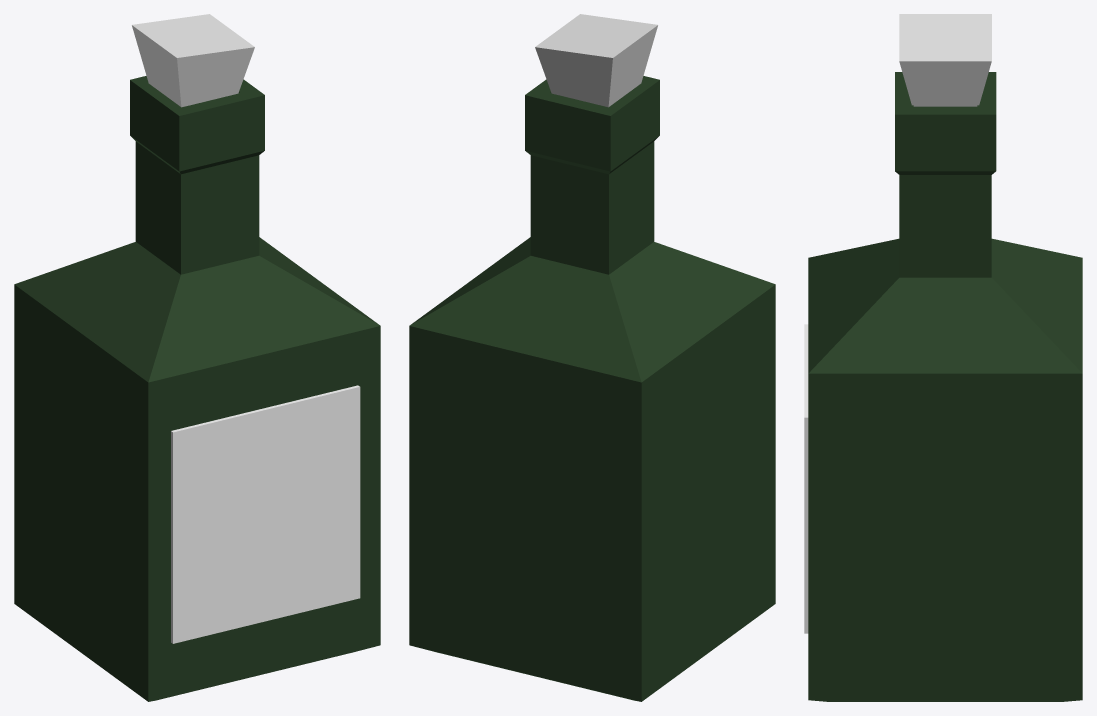
The model's file is red_potion_glass.fbx.
3 views of the same model, side by side, from view 1: azimuth 30°, elevation 25°; view 2: azimuth 150°, elevation 25°; view 3: azimuth 270°, elevation 25° (orthographic). The views are drawn at different scales.
Parts seen in each view (by area): view 1: Box007, Box010; view 2: Box007, Box010; view 3: Box007, Box010.
Part boxes in pixels (x1,y1,x2,y2): Box007: (14,76,380,701); Box010: (132,14,254,107); Box007: (409,76,775,701); Box010: (535,14,657,107); Box007: (804,72,1082,701); Box010: (899,14,991,106).
Bounding box in the file's own units: 55 × 137 × 55.83.
